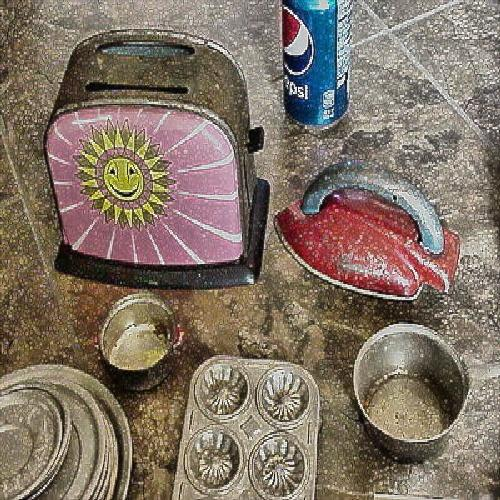toaster: (46, 39, 273, 290)
